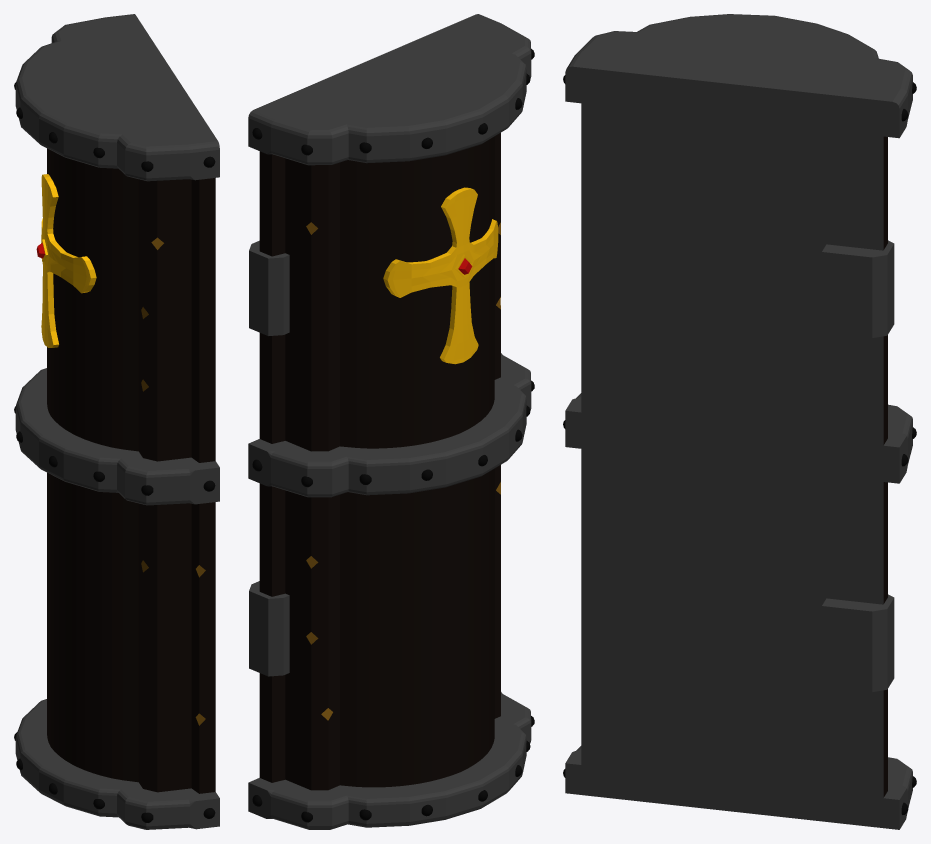
Rendered from Sarg_2_Deckel.obj.
The picture shows the model from 3 angles, left to right: view 1: azimuth 30°, elevation 25°; view 2: azimuth 150°, elevation 25°; view 3: azimuth 270°, elevation 25°; orthographic projection. The views are drawn at different scales.
Visible parts, largest first — view 1: Sarg_2_Lid; view 2: Sarg_2_Lid; view 3: Sarg_2_Lid.
Part boxes in pixels (bbox=[...]): Sarg_2_Lid: bbox=[14, 14, 219, 829]; Sarg_2_Lid: bbox=[248, 14, 534, 829]; Sarg_2_Lid: bbox=[563, 14, 916, 829].
Size of the model in its own units: 0.7138 by 2.51 by 1.11.
